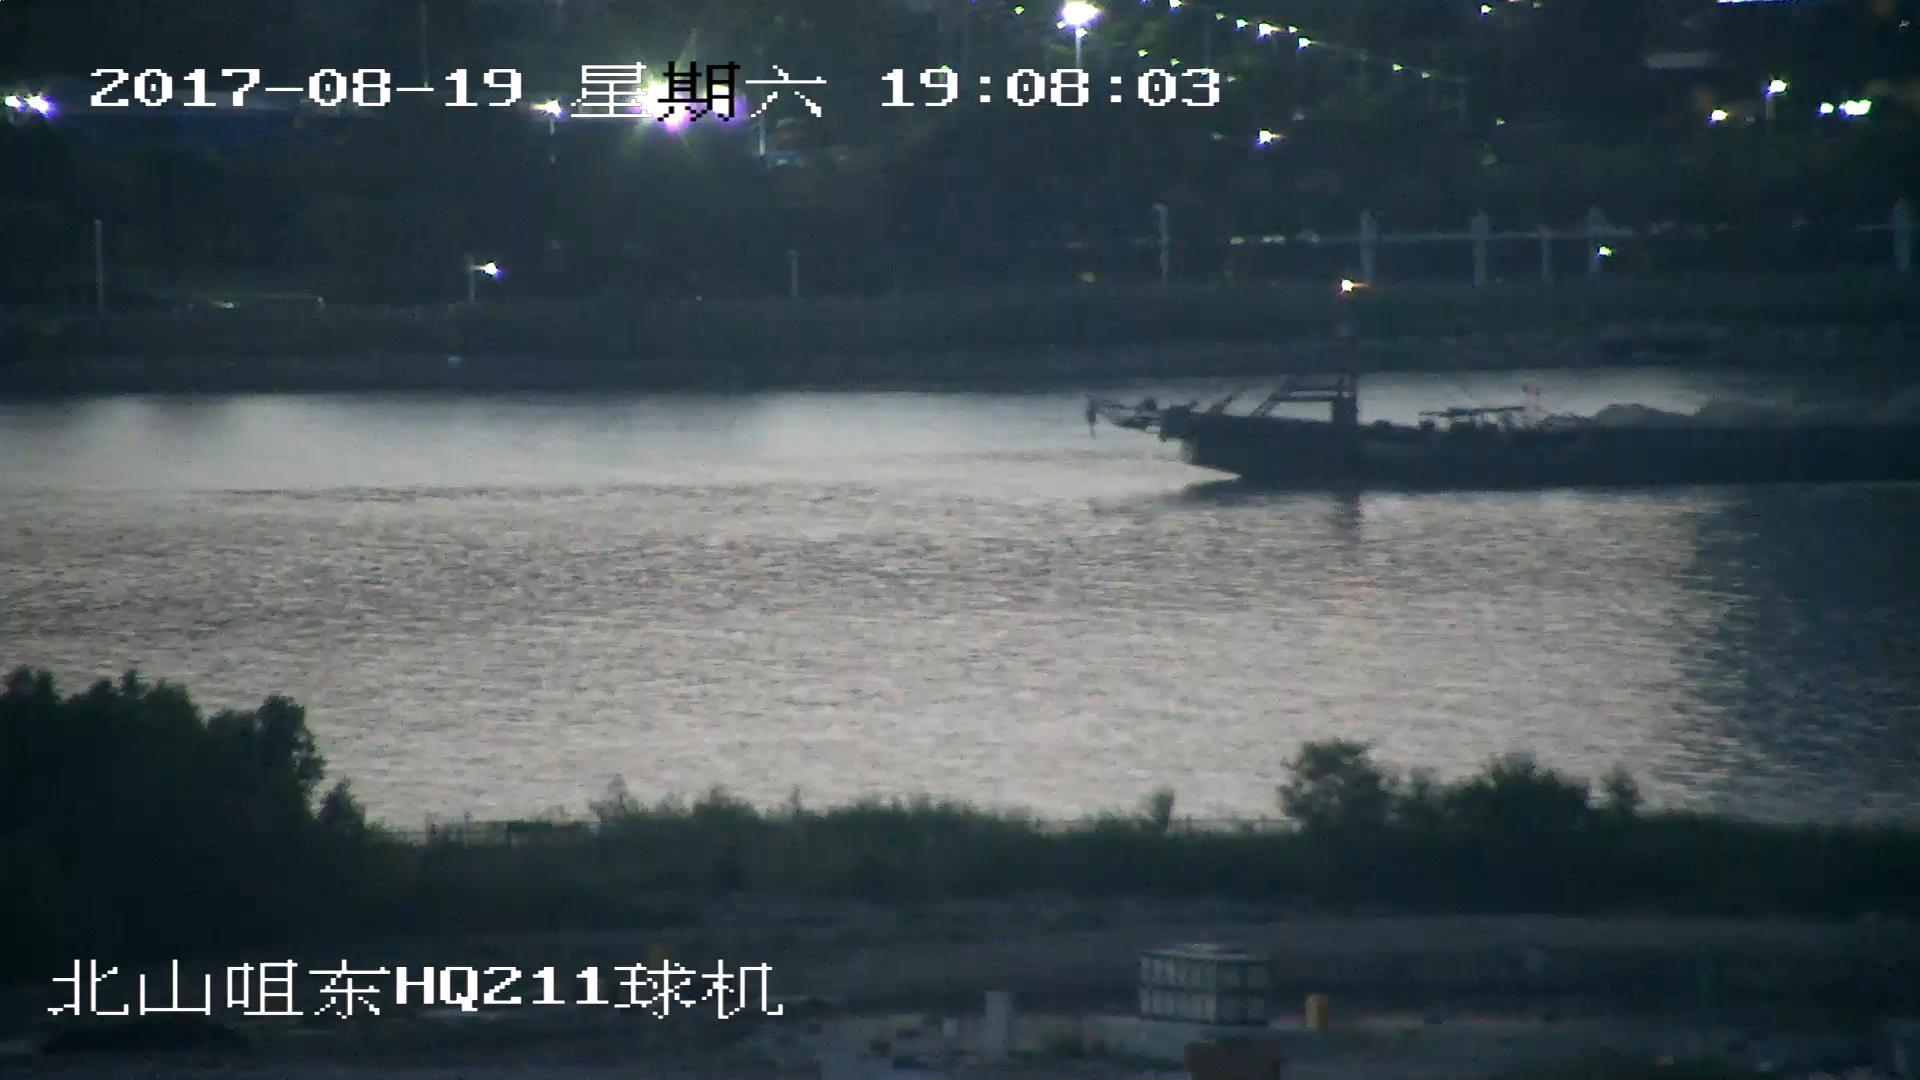Ship: (1097, 281, 1920, 500)
